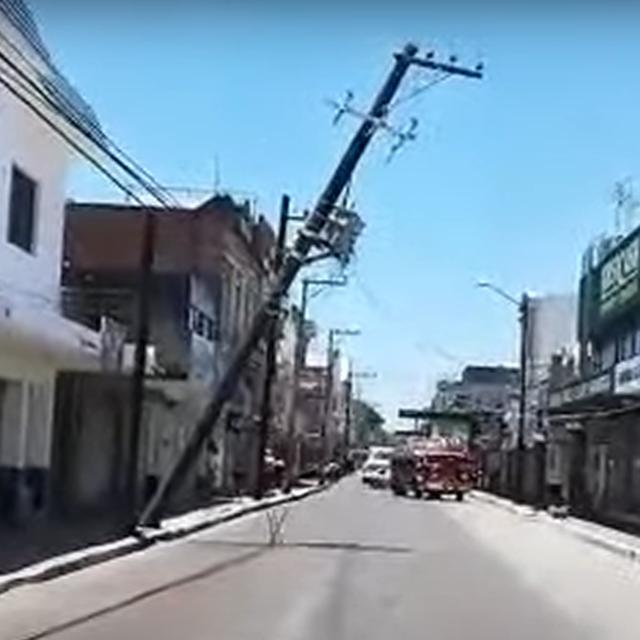Inclined Pole: (119, 41, 494, 535)
